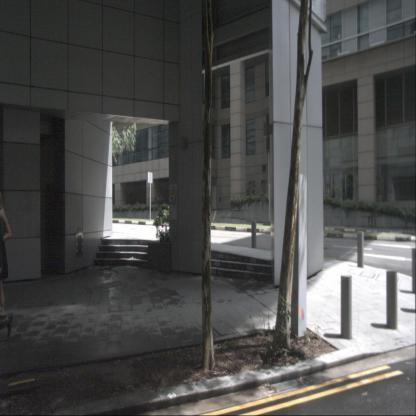human-pedestrian-adult: (0, 185, 13, 319)
